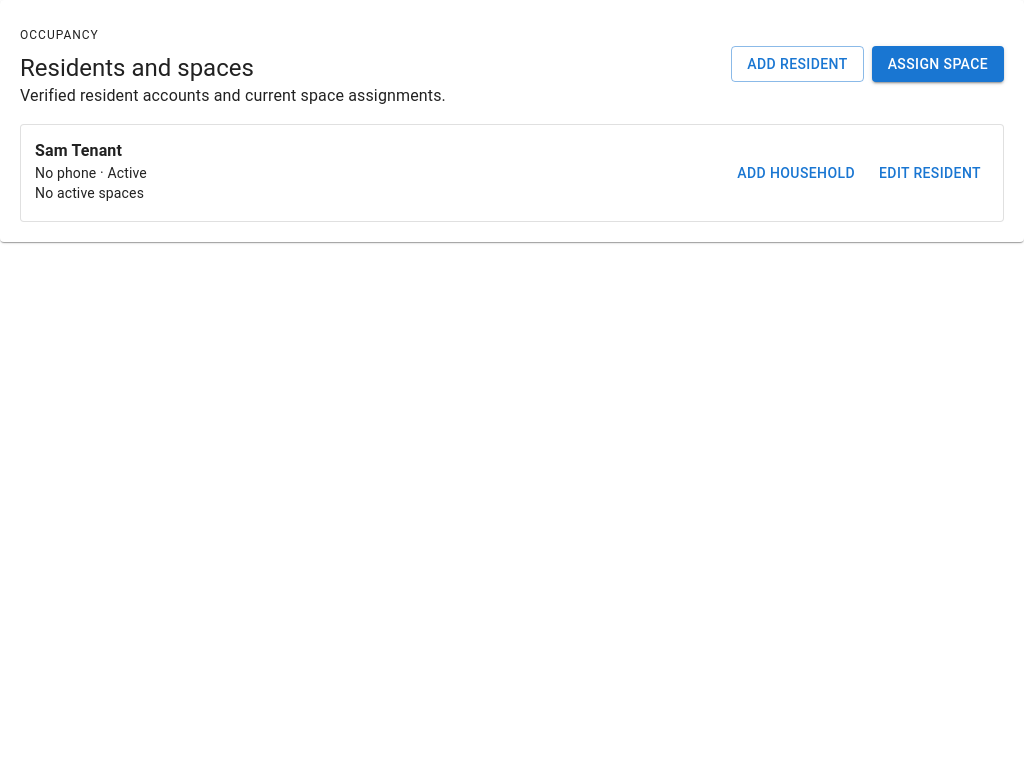
blocks creating a resident without an account and a name
The width and height of the screenshot is (1024, 768).
Click the button "Add resident" at (797, 64), box [731,46,864,82]
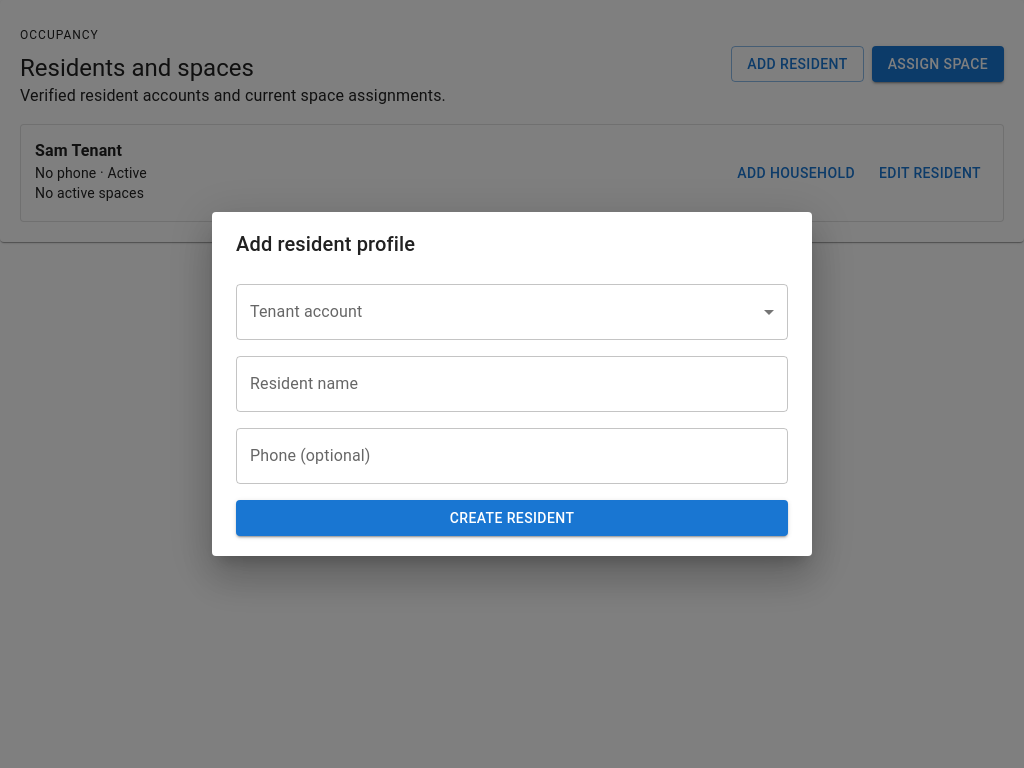
Click the button "Create resident" at (512, 518), box [236,500,788,536]
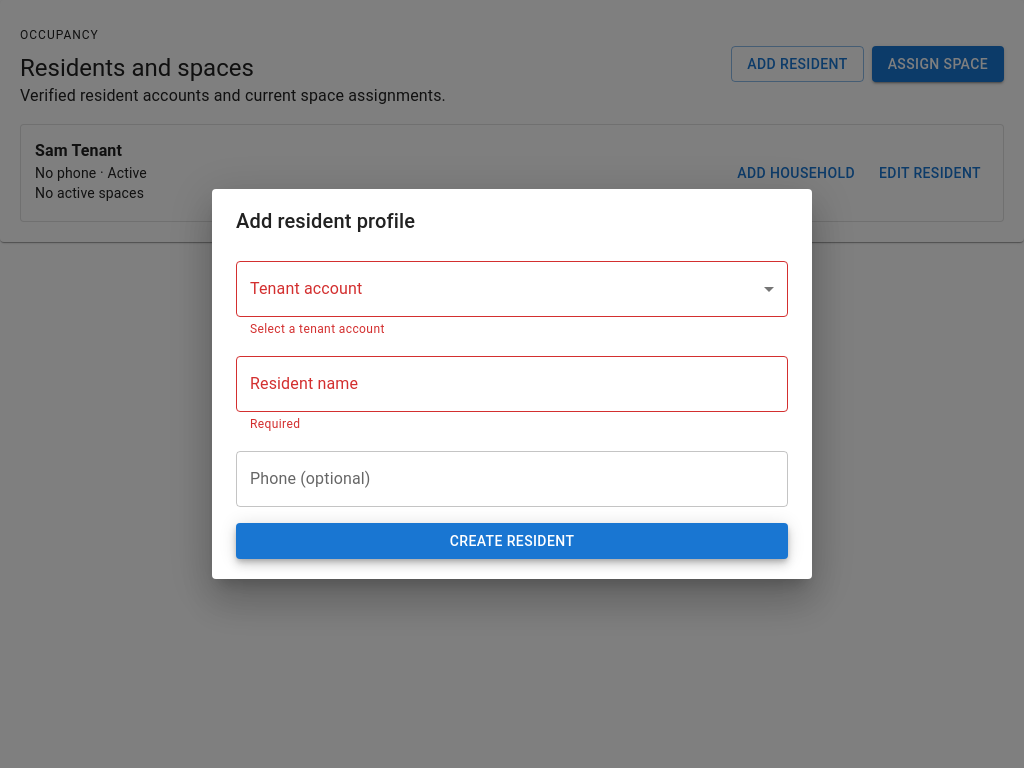
expect the text "Select a tenant account" is shown: met, box [250,322,385,336]
expect the text "Required" is shown: met, box [250,417,300,431]
